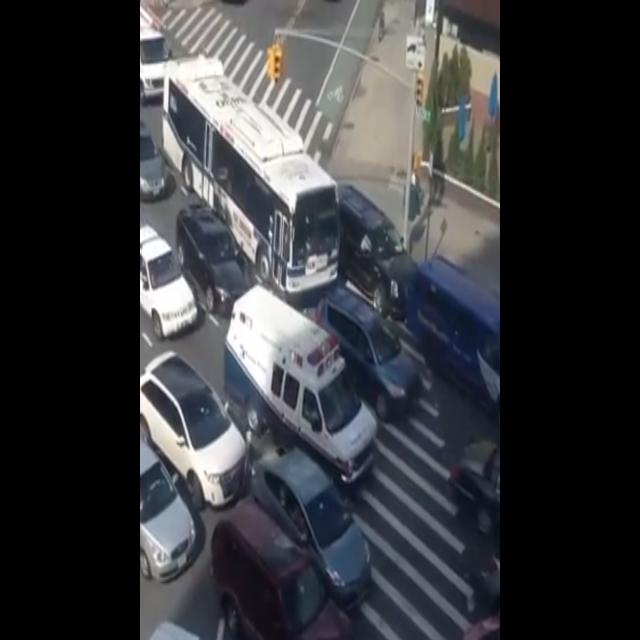Ambulance: (225, 272, 384, 500)
